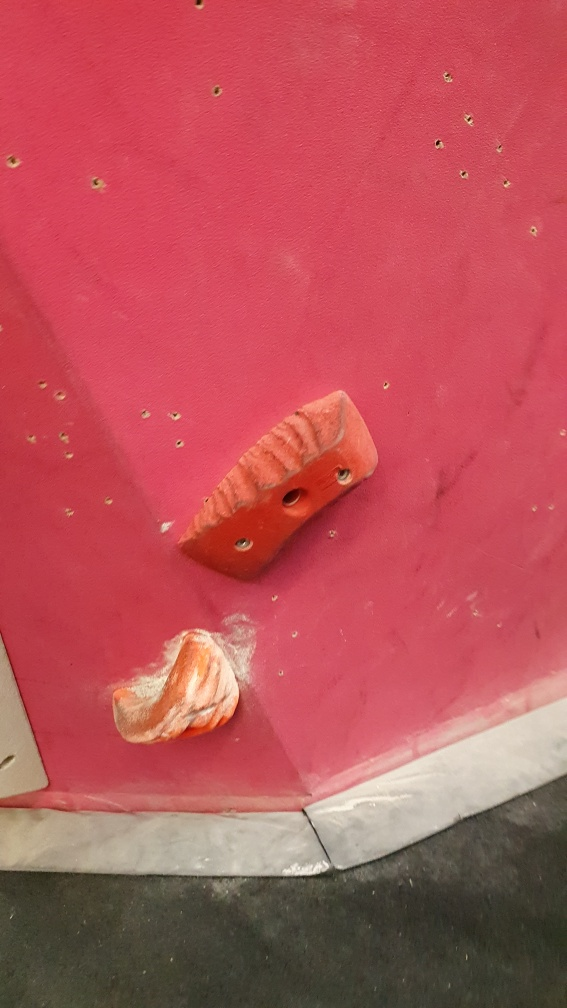Crimp: (176, 382, 380, 589)
Jug: (110, 627, 240, 750)
